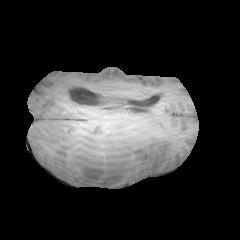glioma: (56, 128, 140, 184)
